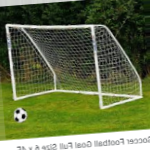goals: (5, 20, 144, 109)
